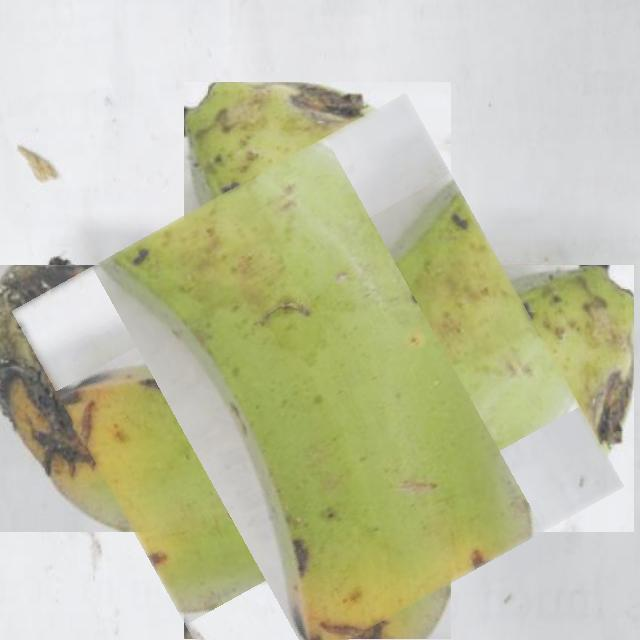Podre: (51, 132, 583, 640)
